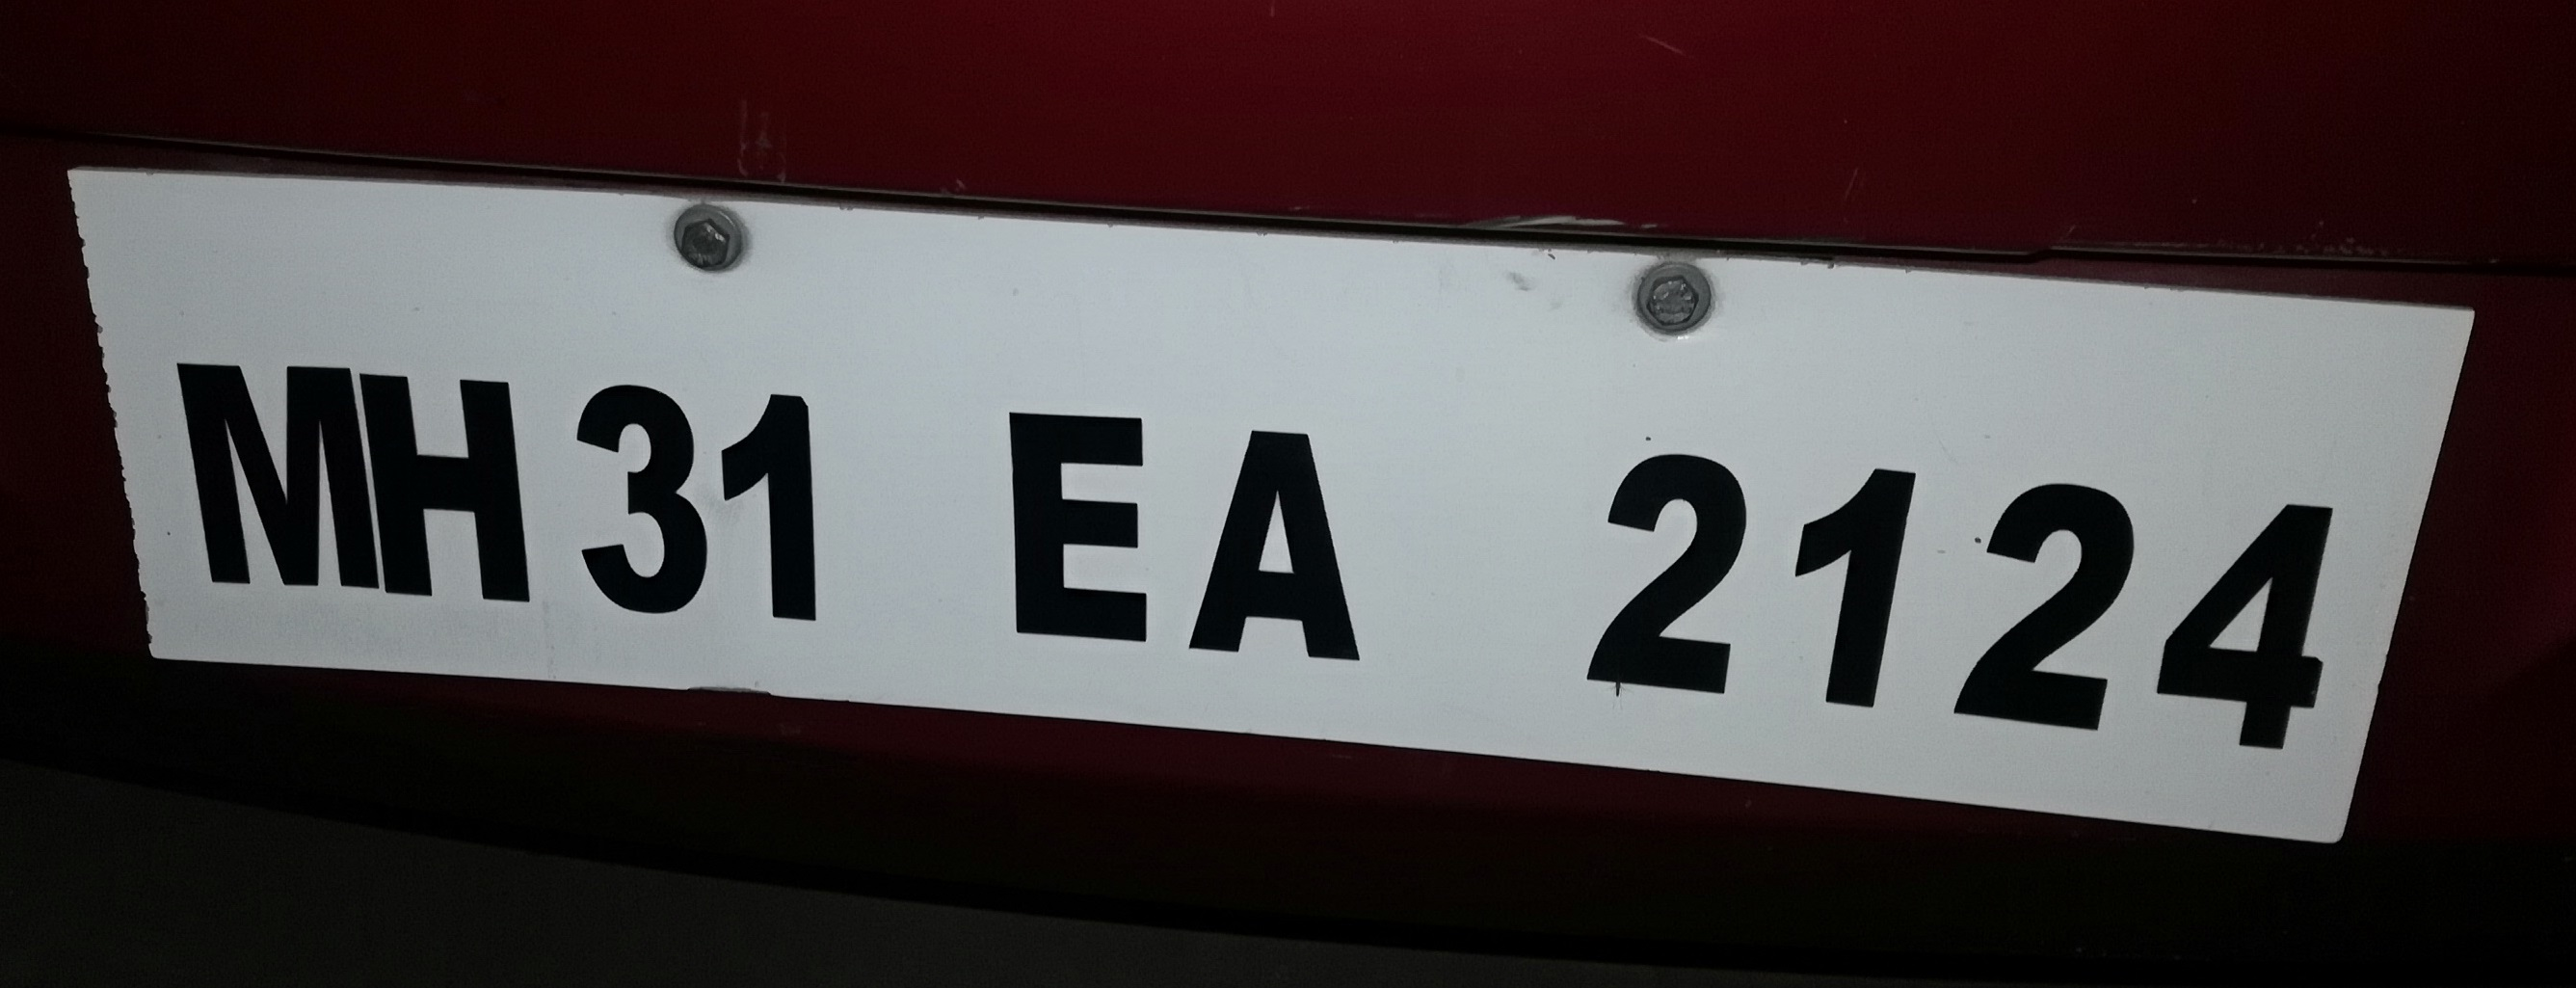numberplate: (53, 160, 2478, 839)
